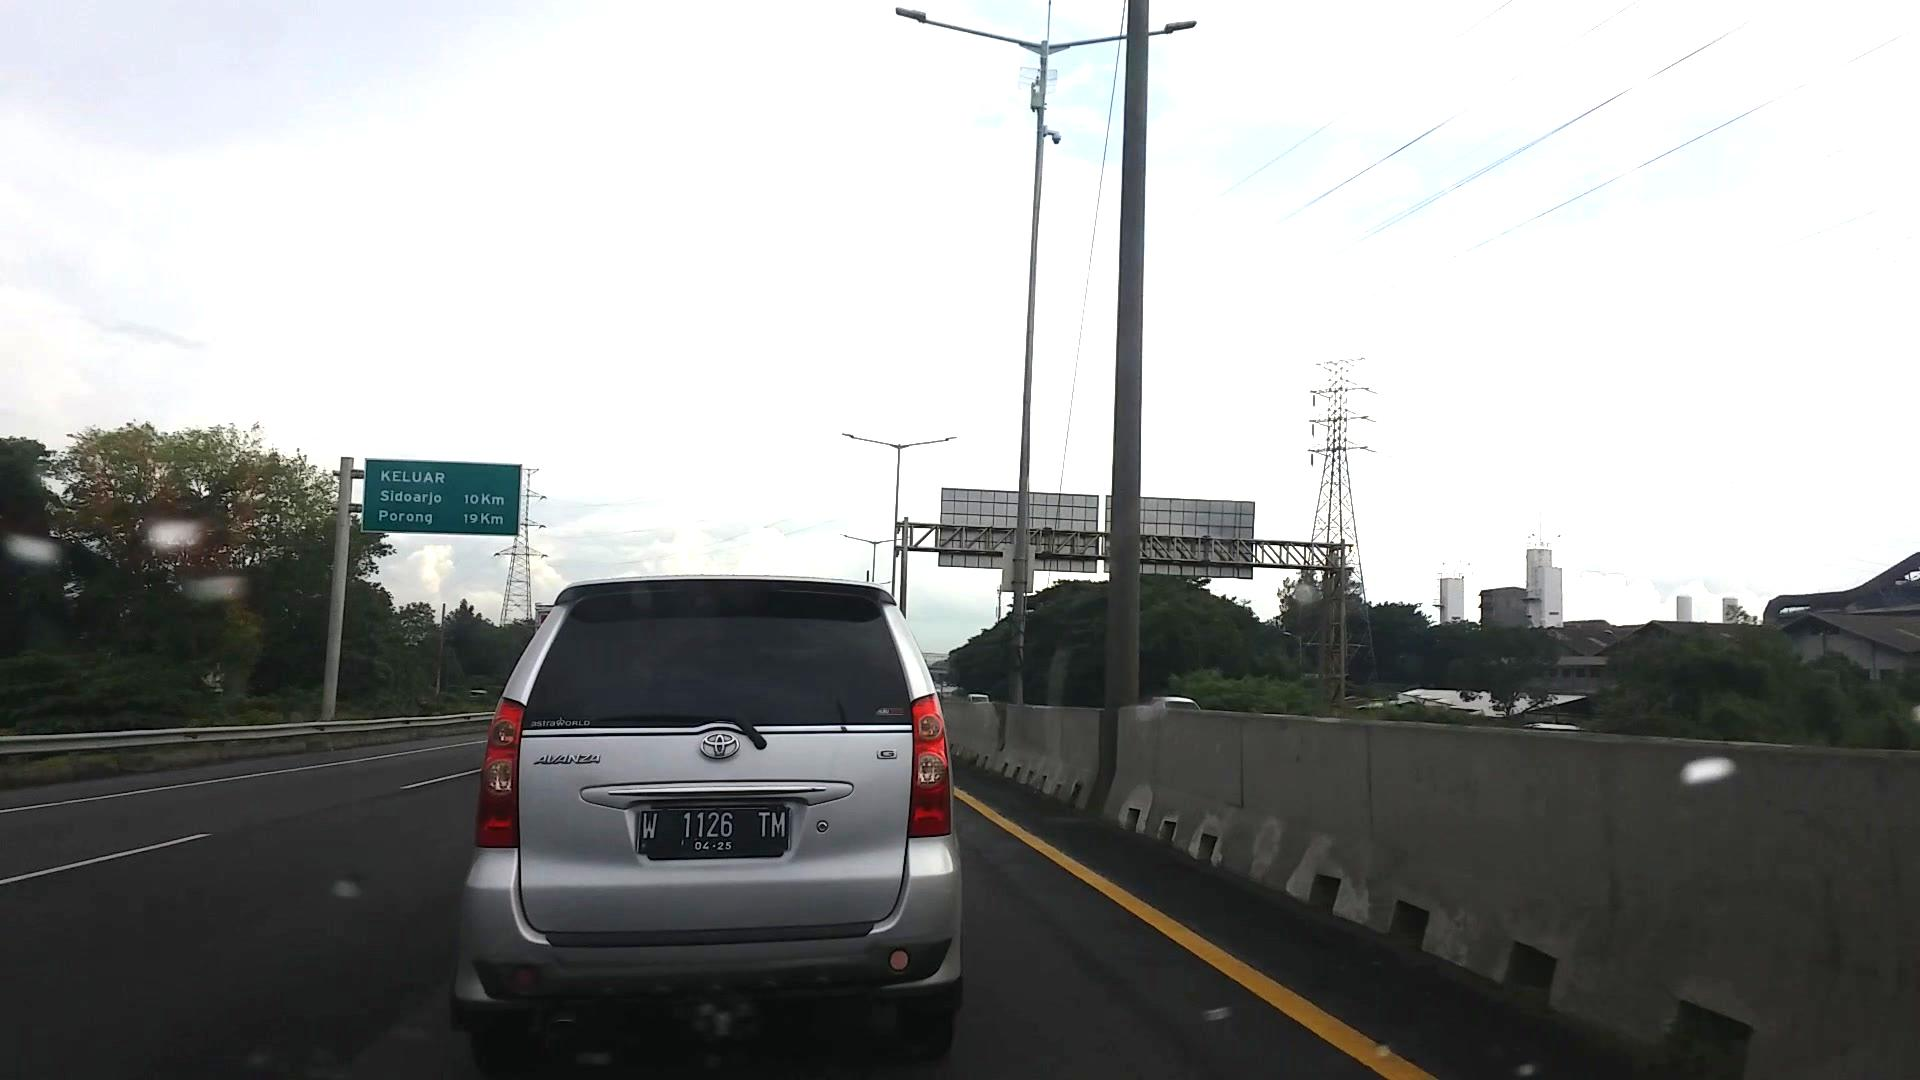plate_positive: (637, 808, 790, 851)
